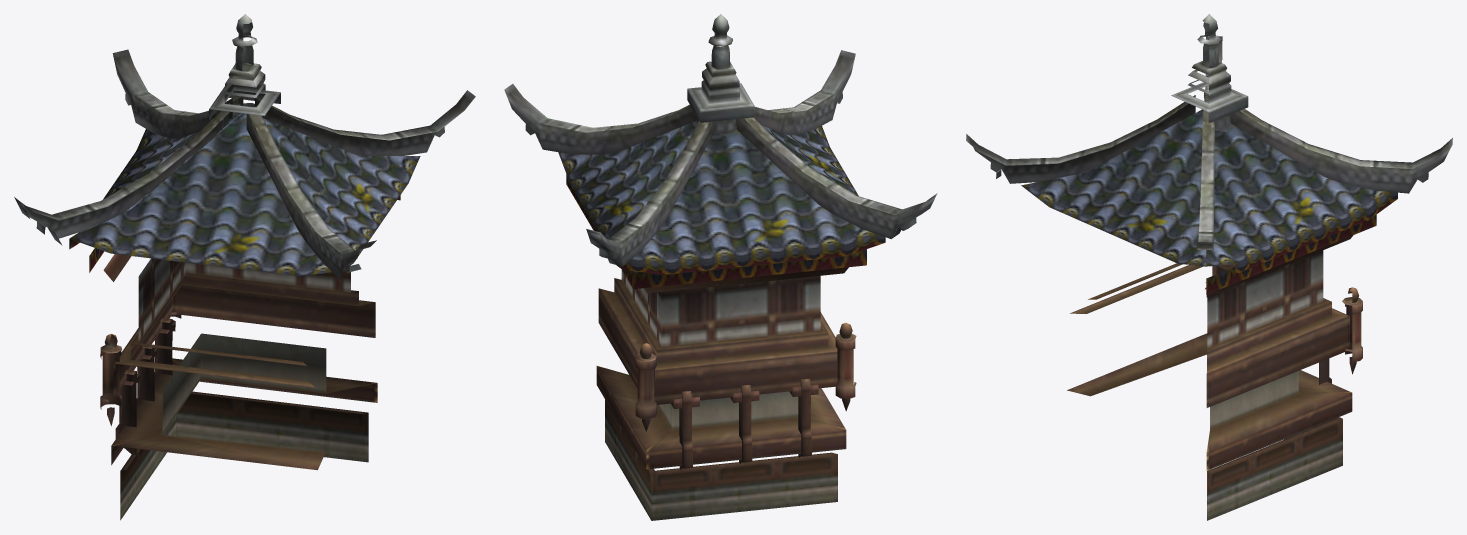
File: S2_Build_XSC016_L3.FBX
The picture shows the model from 3 angles, left to right: view 1: azimuth 30°, elevation 25°; view 2: azimuth 150°, elevation 25°; view 3: azimuth 270°, elevation 25°; orthographic projection. The views are drawn at different scales.
Visible parts, largest first — view 1: S2_Build_XSC016_L3; view 2: S2_Build_XSC016_L3; view 3: S2_Build_XSC016_L3.
Boxes of the visible parts, x1,y1,x2,y2 form: S2_Build_XSC016_L3: (14,14,475,520); S2_Build_XSC016_L3: (504,14,937,520); S2_Build_XSC016_L3: (966,14,1452,520).
Bounding box in the file's own units: 3144 × 3201 × 3130.
